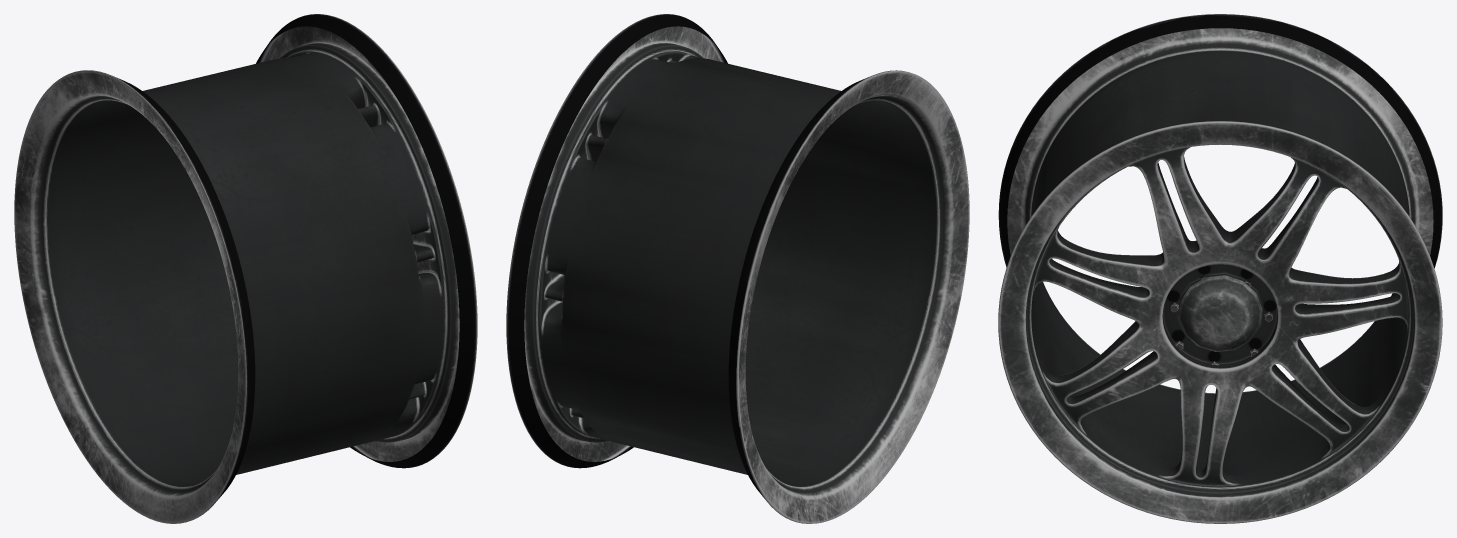
3 views of the same model, side by side, from view 1: azimuth 30°, elevation 25°; view 2: azimuth 150°, elevation 25°; view 3: azimuth 270°, elevation 25° (orthographic). The views are drawn at different scales.
Visible parts, largest first — view 1: Object_2; view 2: Object_2; view 3: Object_2.
Part boxes in pixels (left/top/right/bottom): Object_2: left=14, top=14, right=477, bottom=523; Object_2: left=506, top=14, right=969, bottom=523; Object_2: left=998, top=14, right=1442, bottom=523.
Size of the model in its own units: 0.2479 by 0.4299 by 0.43.
Materials: 1 (1 with a texture image).
